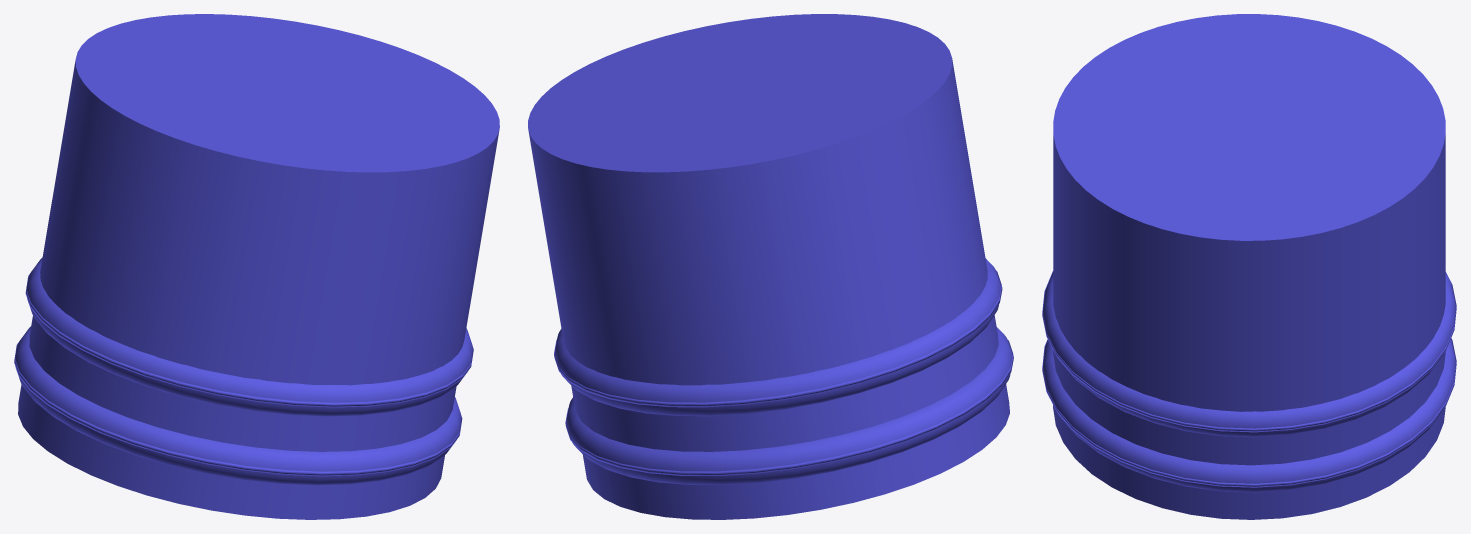
File: bombilla161.obj
The picture shows the model from 3 angles, left to right: view 1: azimuth 30°, elevation 25°; view 2: azimuth 150°, elevation 25°; view 3: azimuth 270°, elevation 25°; orthographic projection. The views are drawn at different scales.
Visible parts, largest first — view 1: Cylinder001, Cylinder004, Cylinder003, Cylinder006, Cylinder002; view 2: Cylinder001, Cylinder004, Cylinder003, Cylinder006, Cylinder002; view 3: Cylinder001, Cylinder004, Cylinder002, Cylinder003, Cylinder006.
Boxes of the visible parts, x1,y1,x2,y2 form: Cylinder001: (40, 14, 499, 385); Cylinder004: (14, 326, 462, 485); Cylinder003: (29, 316, 456, 451); Cylinder006: (18, 384, 444, 519); Cylinder002: (25, 257, 473, 416); Cylinder001: (528, 14, 987, 385); Cylinder004: (565, 327, 1013, 484); Cylinder003: (571, 315, 998, 451); Cylinder006: (582, 384, 1009, 519); Cylinder002: (554, 258, 1002, 416); Cylinder001: (1053, 14, 1445, 411); Cylinder004: (1042, 338, 1456, 492); Cylinder002: (1042, 271, 1456, 437); Cylinder003: (1053, 350, 1445, 465); Cylinder006: (1053, 405, 1445, 519).
Size of the model in its own units: 78.35 by 70.85 by 72.21.
